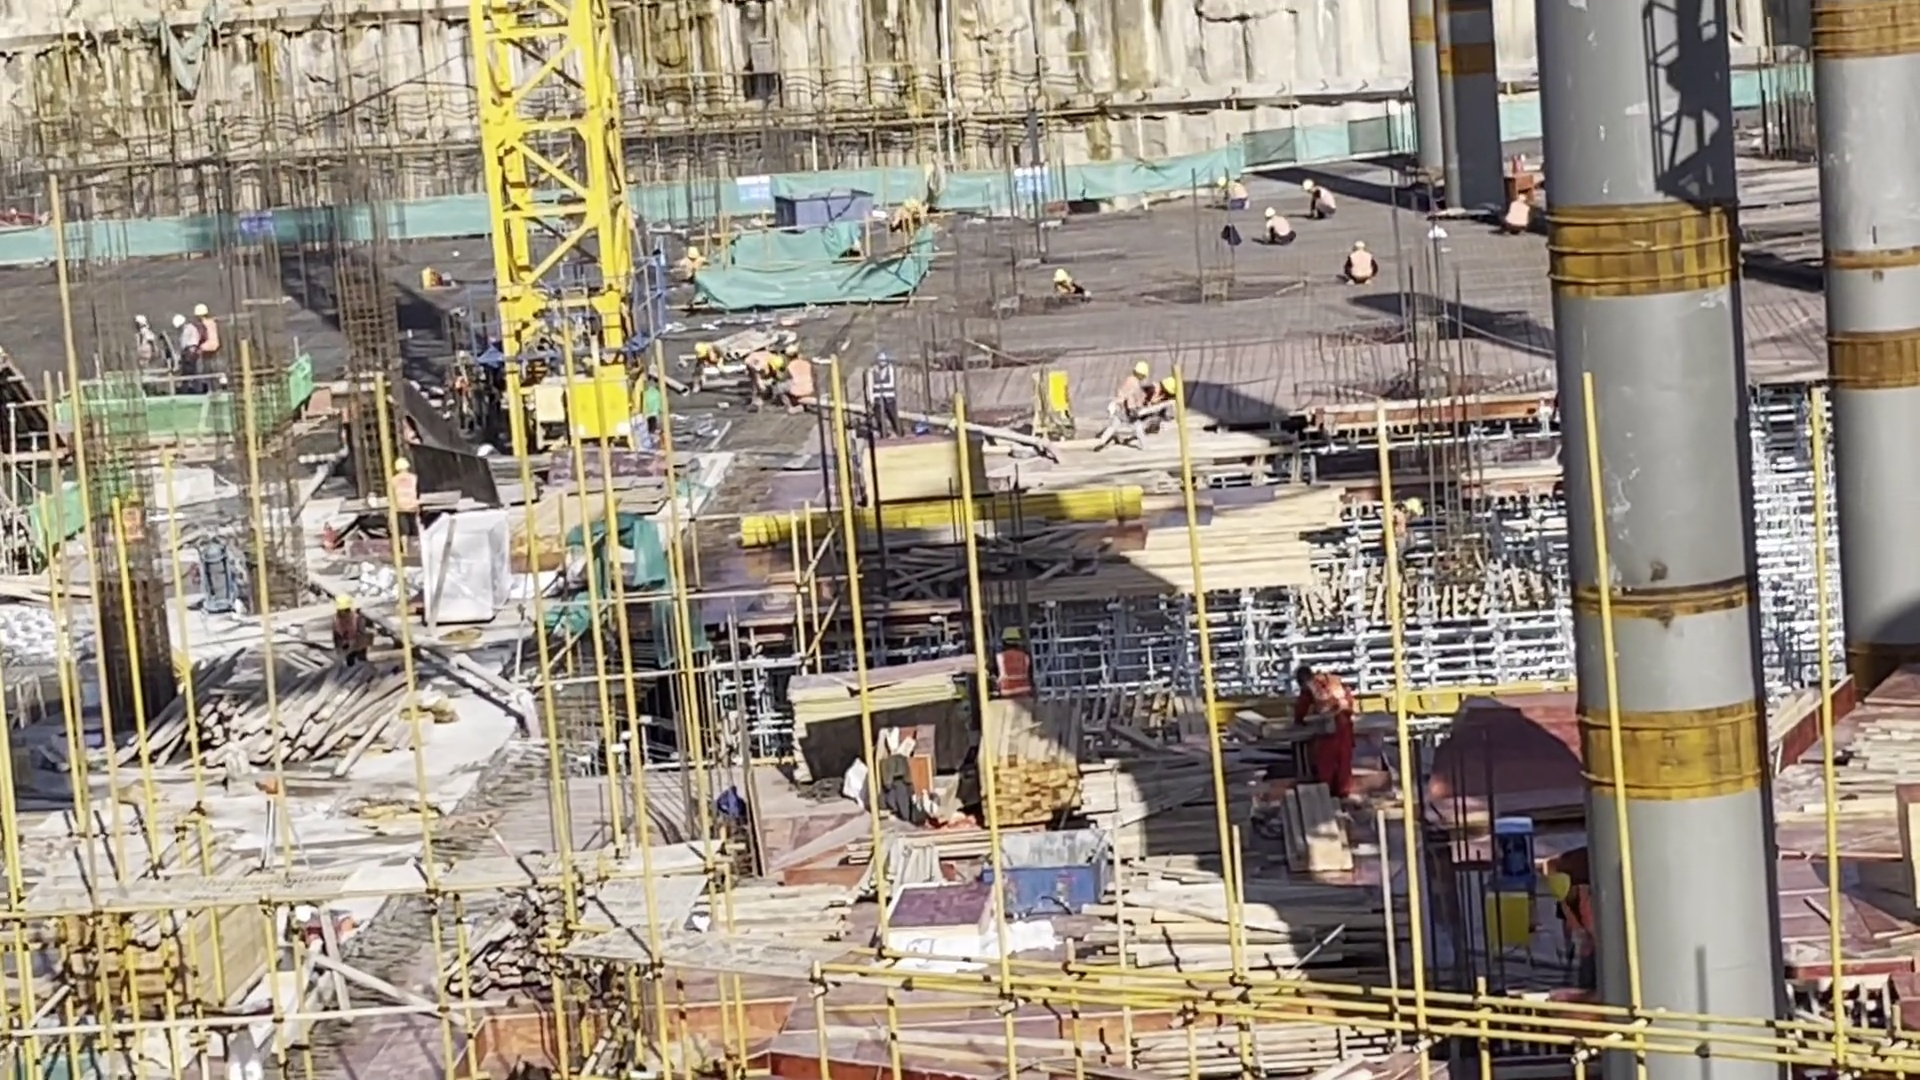helmet: (1541, 870, 1584, 914), (390, 456, 414, 483), (190, 302, 215, 326), (995, 623, 1018, 648), (871, 352, 896, 373), (1132, 360, 1150, 384), (1212, 174, 1235, 192), (1158, 375, 1176, 397), (1053, 269, 1069, 291), (169, 314, 184, 332), (136, 311, 149, 332), (1262, 203, 1276, 221), (1353, 239, 1366, 257), (1301, 180, 1315, 195)
hopper: (989, 834, 1111, 927)
person: (1281, 660, 1371, 782), (1534, 861, 1624, 982), (851, 348, 909, 436), (377, 455, 425, 541), (1374, 496, 1421, 573), (986, 620, 1032, 696), (1109, 358, 1152, 434), (324, 602, 375, 664), (192, 301, 228, 385), (172, 312, 204, 390), (891, 196, 938, 248), (687, 339, 736, 387), (782, 343, 813, 410), (128, 314, 160, 374), (1340, 240, 1378, 290), (1261, 204, 1302, 249), (1047, 267, 1088, 307), (1301, 181, 1338, 226), (1496, 186, 1529, 234), (1214, 176, 1249, 213), (677, 250, 707, 283)
vest: (1308, 681, 1343, 720), (995, 653, 1023, 693), (868, 373, 899, 406), (393, 480, 422, 512), (787, 366, 810, 400), (1346, 257, 1366, 281), (1316, 189, 1333, 212), (683, 260, 702, 279), (1506, 204, 1525, 224), (1269, 220, 1289, 239), (1232, 182, 1248, 204)
wood: (1097, 845, 1367, 976), (133, 667, 399, 782), (984, 704, 1095, 826)
